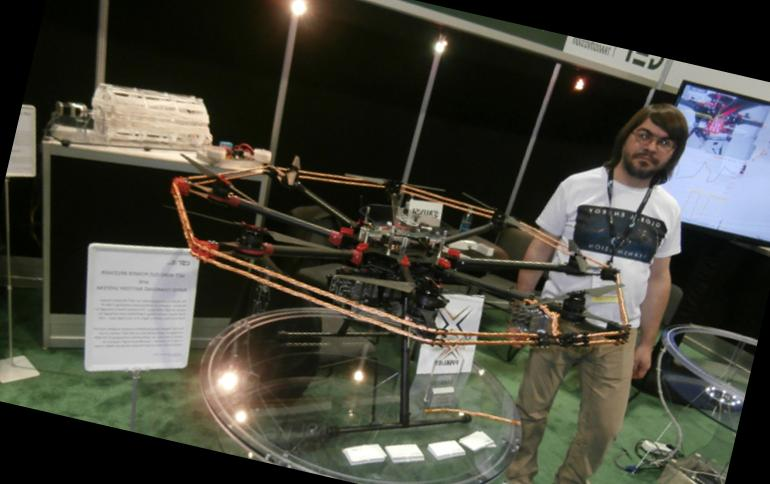drone: (150, 108, 641, 380)
